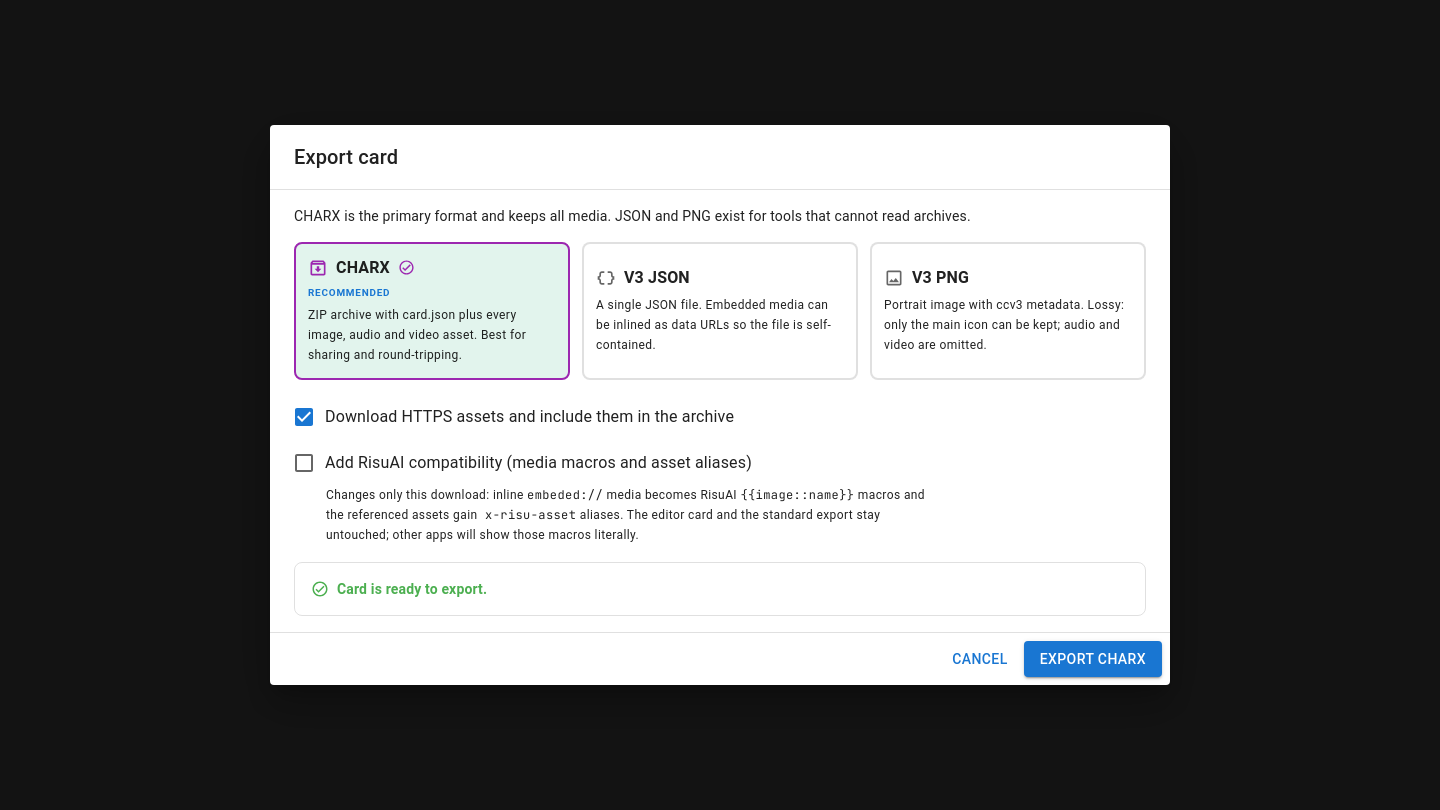
Test: ExportDialog › passes the RisuAI compatibility flag for CHARX
The image size is (1440, 810).
Later steps or results of the test are not shown.
Click the checkbox labelled "Add RisuAI compatibility (media macros and asset aliases)" at (522, 463), box top-left (292, 451), bottom-right (752, 475)
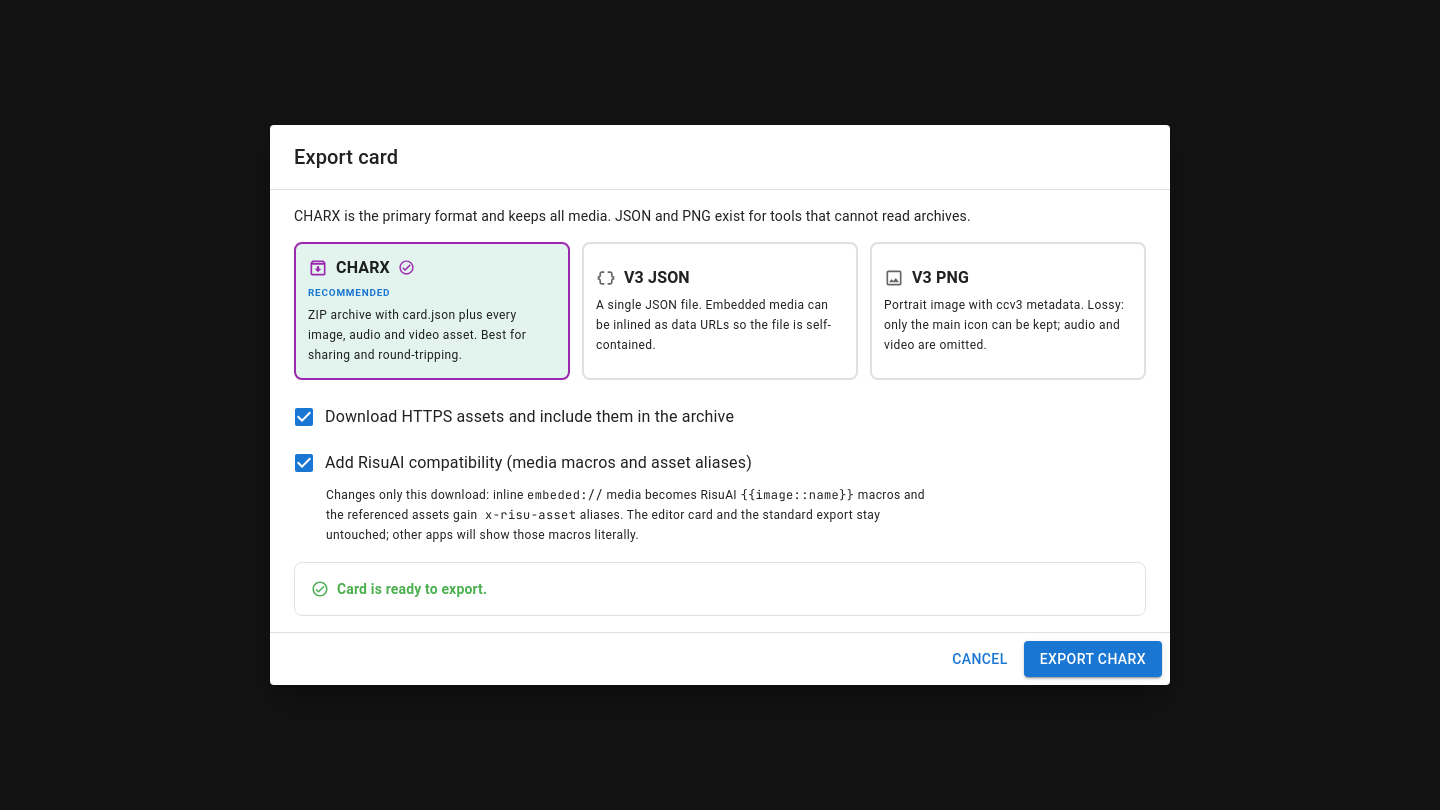
Expected: the checkbox labelled "Add RisuAI compatibility (media macros and asset aliases)" is checked, top-left (292, 451), bottom-right (752, 475)
